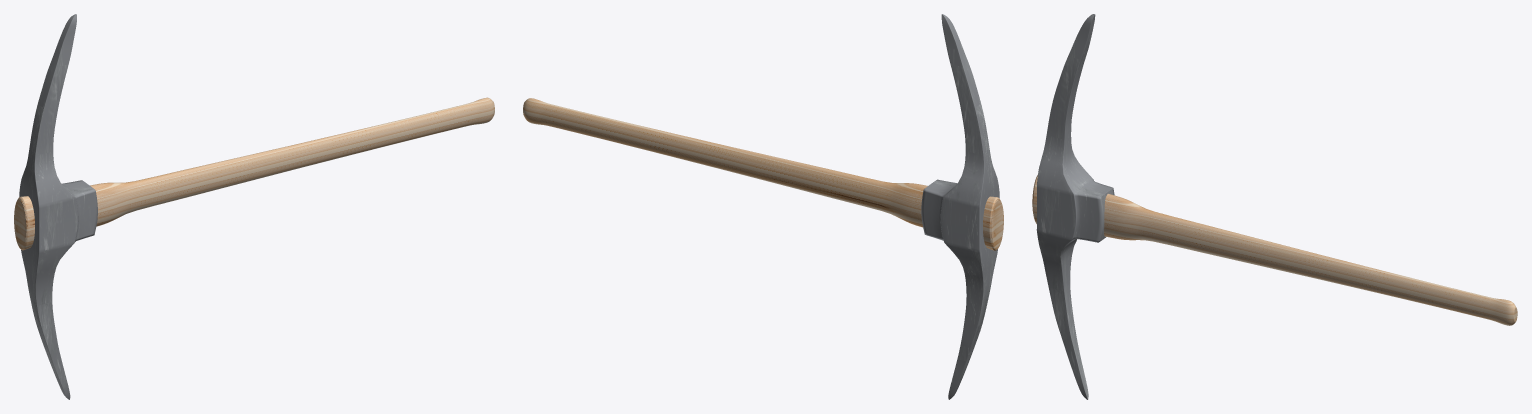
File: pickaxe.fbx
The picture shows the model from 3 angles, left to right: view 1: azimuth 30°, elevation 25°; view 2: azimuth 150°, elevation 25°; view 3: azimuth 330°, elevation 25°; orthographic projection.
Visible parts, largest first — view 1: pCylinder1, pCube1; view 2: pCylinder1, pCube1; view 3: pCylinder1, pCube1.
Boxes of the visible parts, x1,y1,x2,y2 form: pCylinder1: [14, 97, 494, 250]; pCube1: [19, 14, 97, 399]; pCylinder1: [523, 98, 1003, 250]; pCube1: [921, 14, 999, 399]; pCylinder1: [1032, 175, 1517, 325]; pCube1: [1036, 14, 1114, 399].
Size of the model in its own units: 12.39 by 9.61 by 0.9138.
